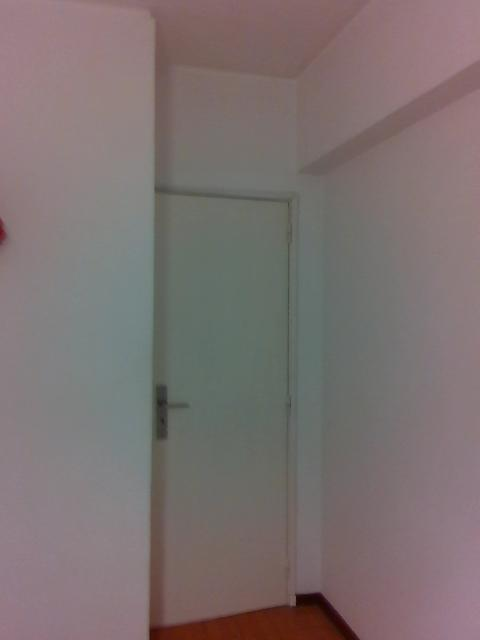closed_door: (148, 187, 297, 623)
